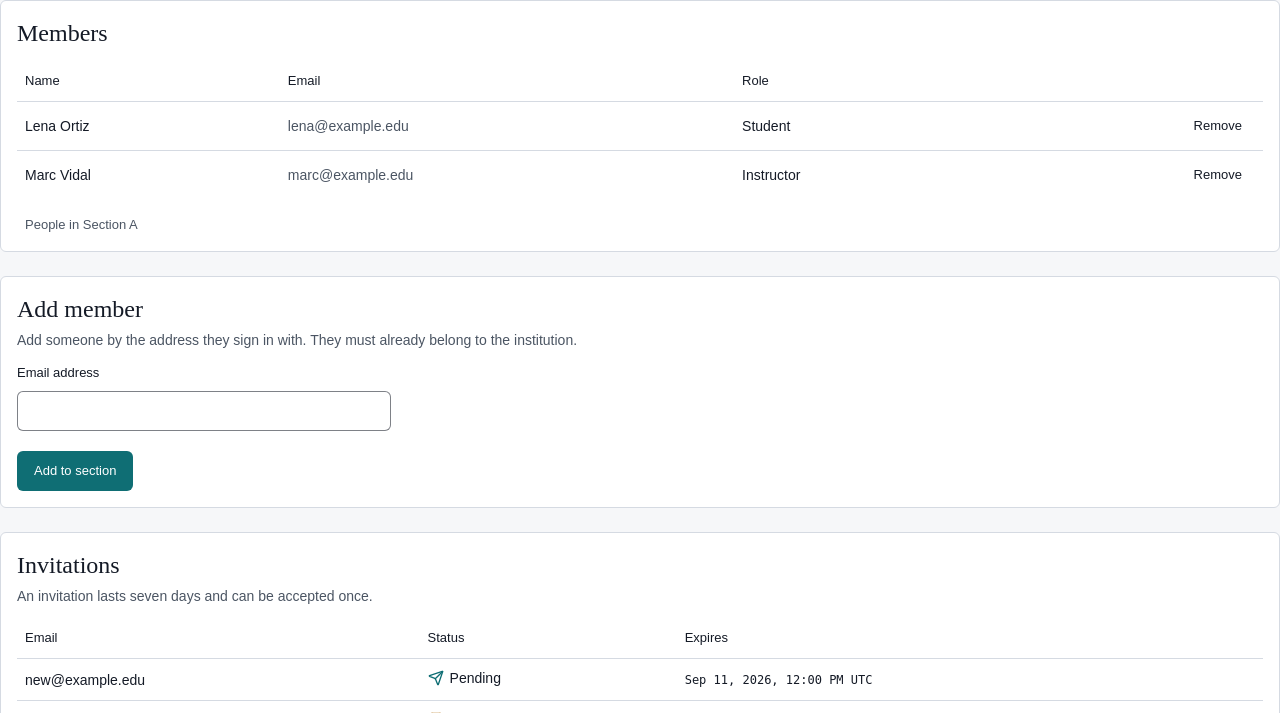
Test: SectionRoster removal (UI-031, SYS-005) › keeps a refusal on the row it refuses and closes the confirmation
Click the button "Remove" in the row of "Marc Vidal".
click(1218, 174)  # box [1181,158,1255,190]
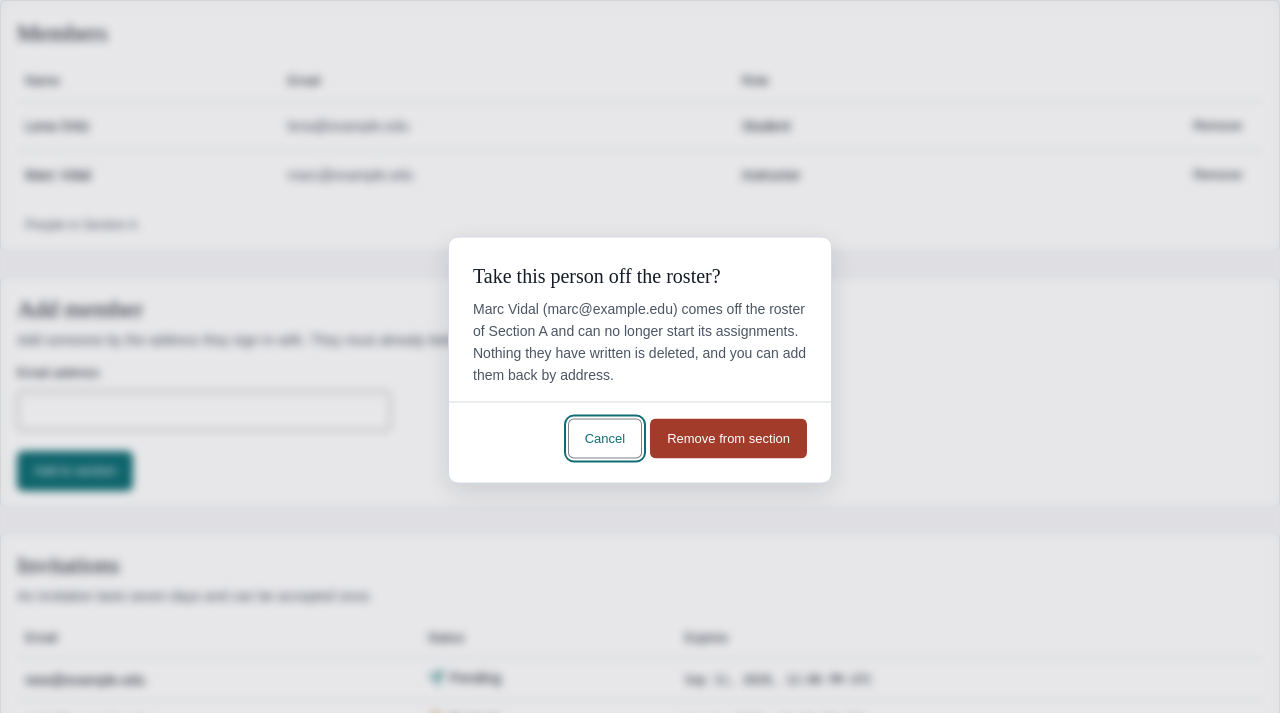
Now the dialog is shown, box [448,236,832,484]
Click the button "Remove from section".
click(729, 438)  # box [650,418,807,458]
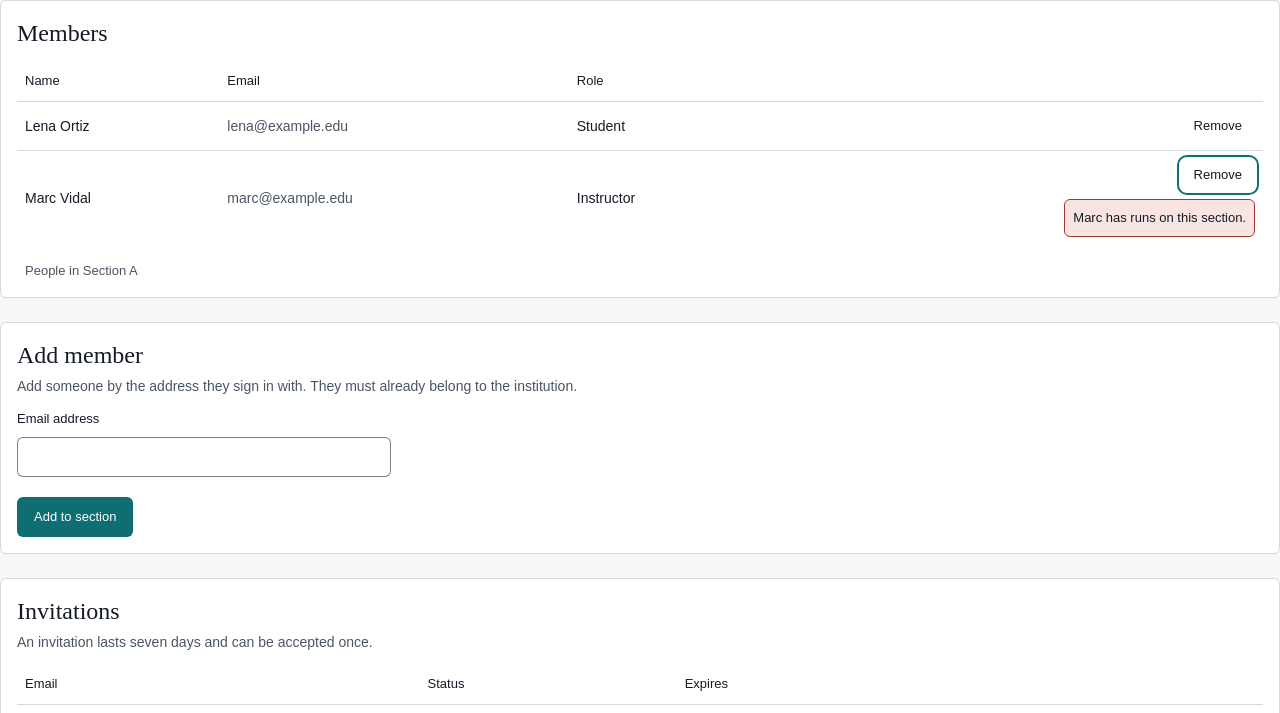
Now the dialog is gone
Now the text "Marc has runs on this section." is shown, box [1064,198,1255,236]
